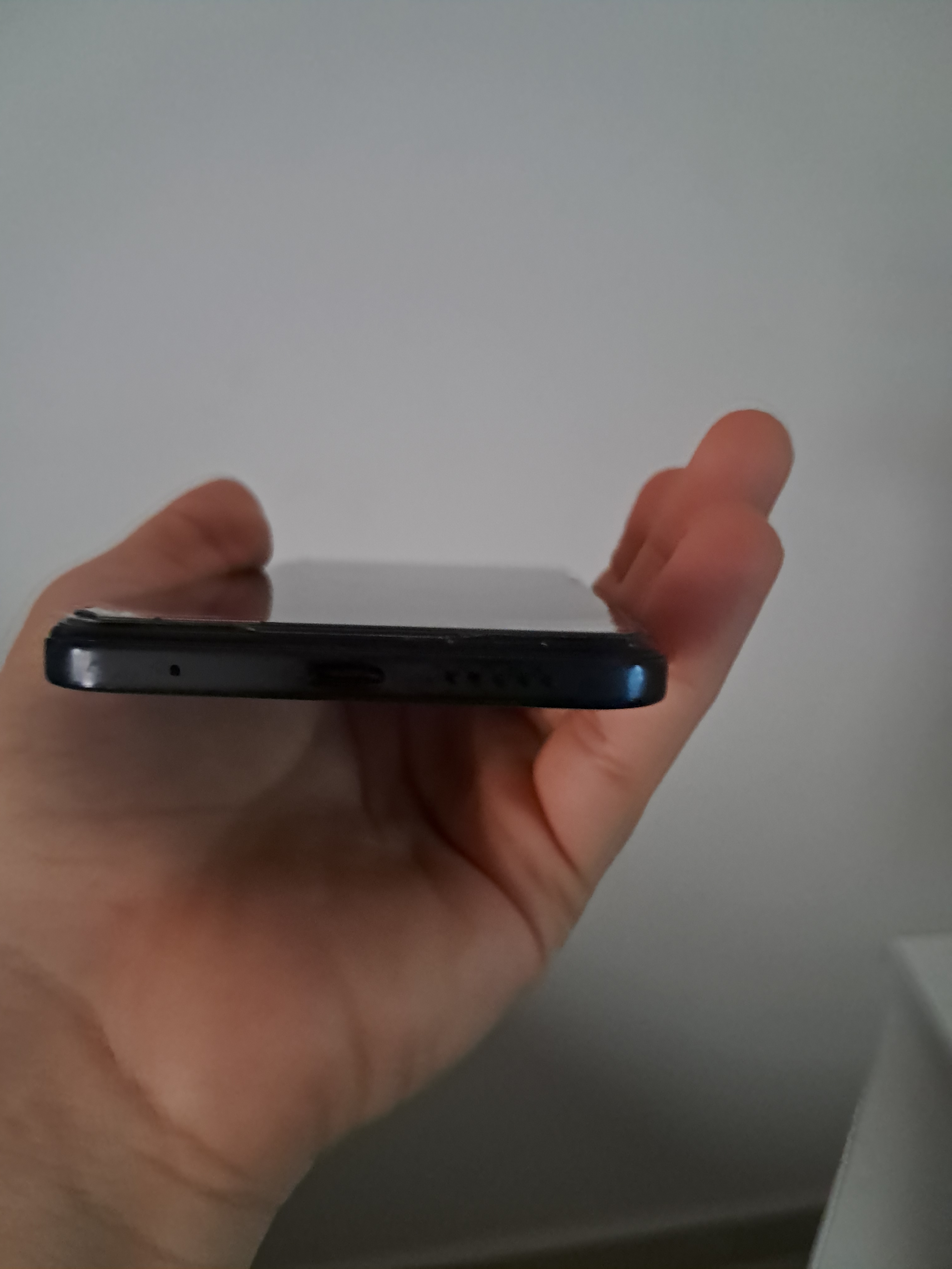phone: (45, 561, 667, 710)
